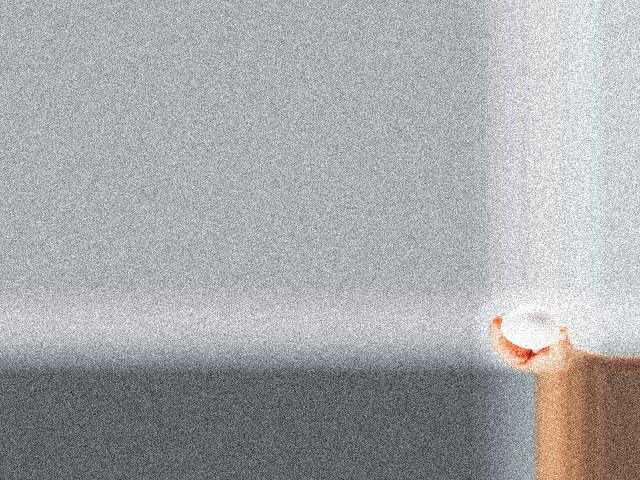egg: (500, 305, 559, 347)
